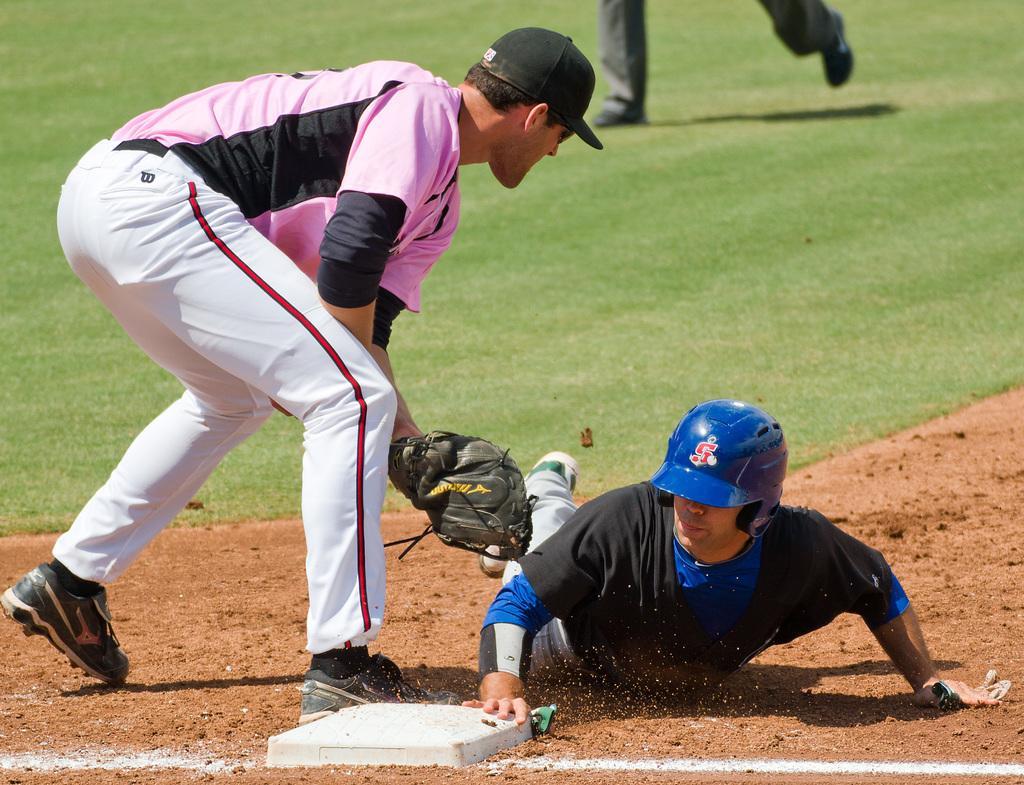Hat: (476, 25, 604, 148)
